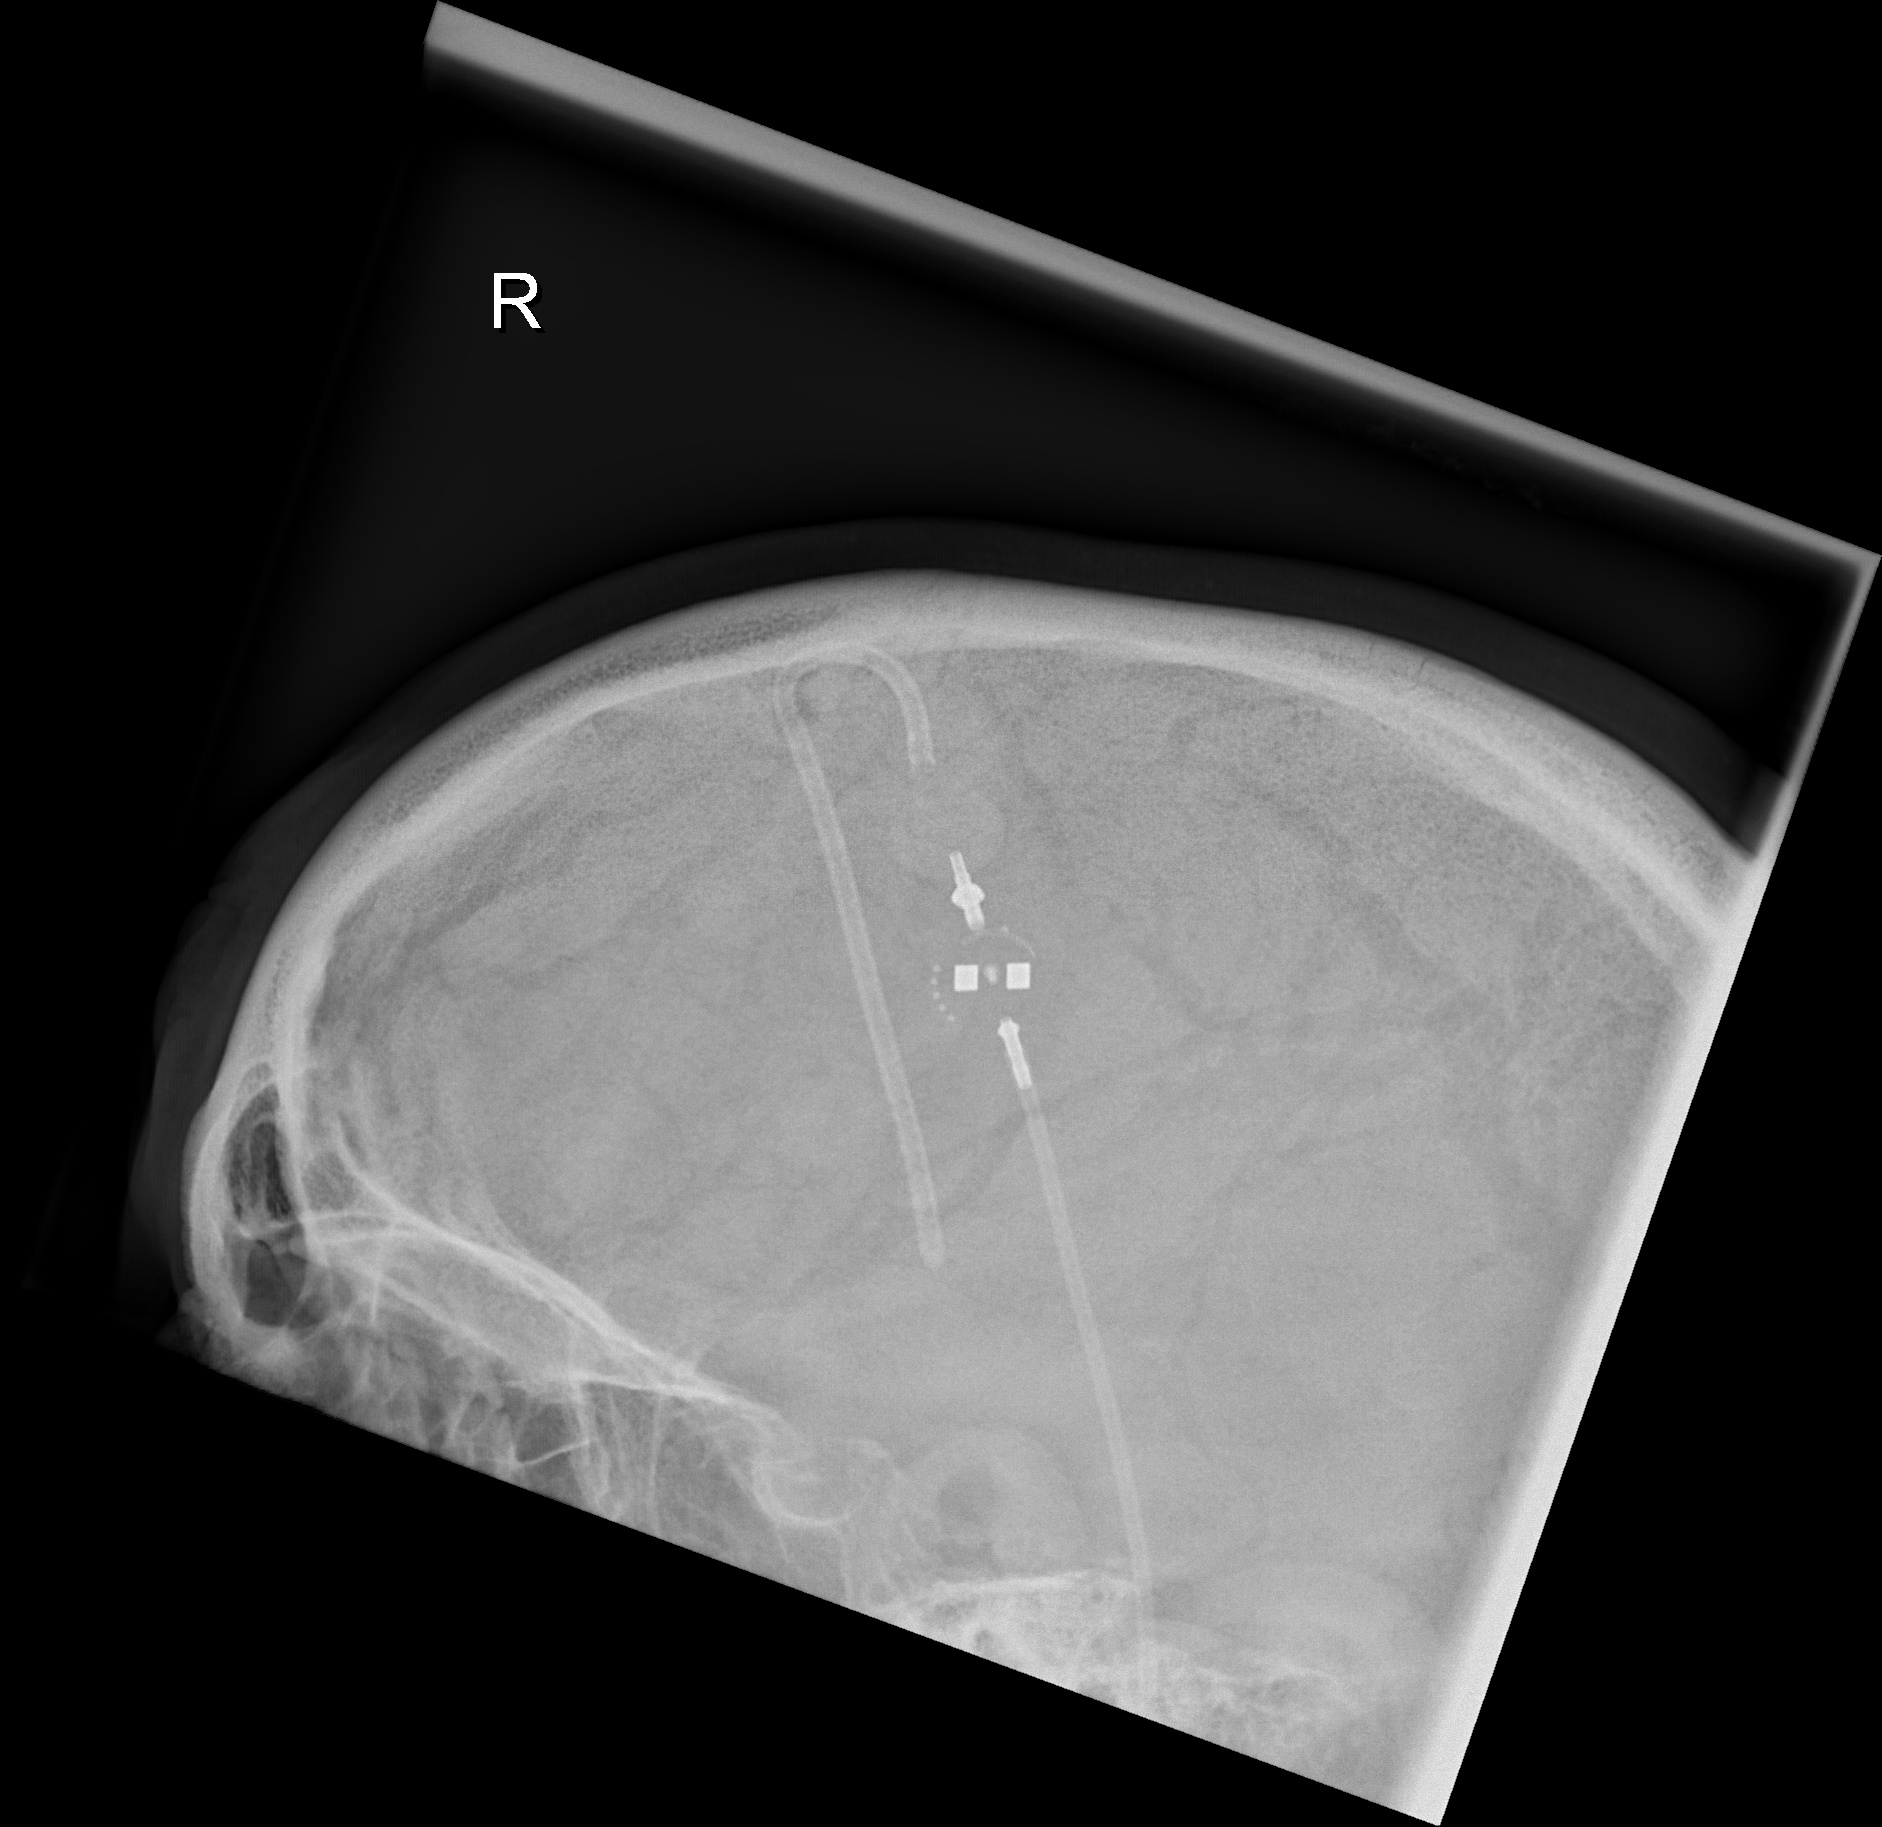Sophysa Polaris: (921, 914, 1065, 1061)
